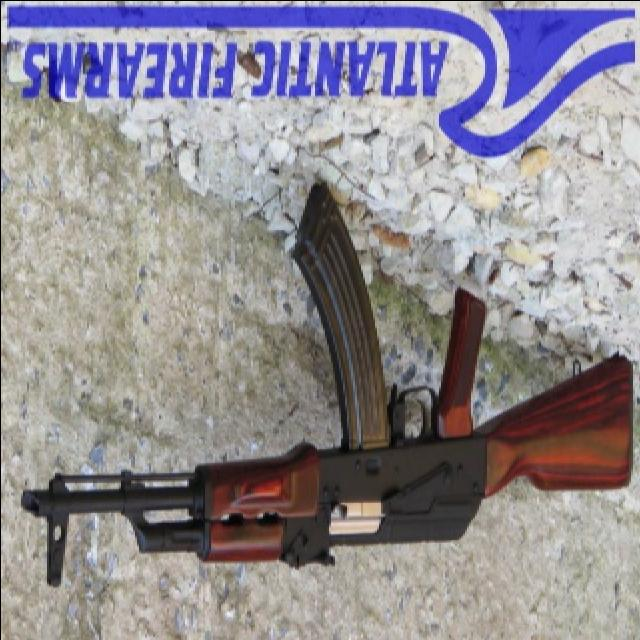rifle: (21, 185, 637, 583)
